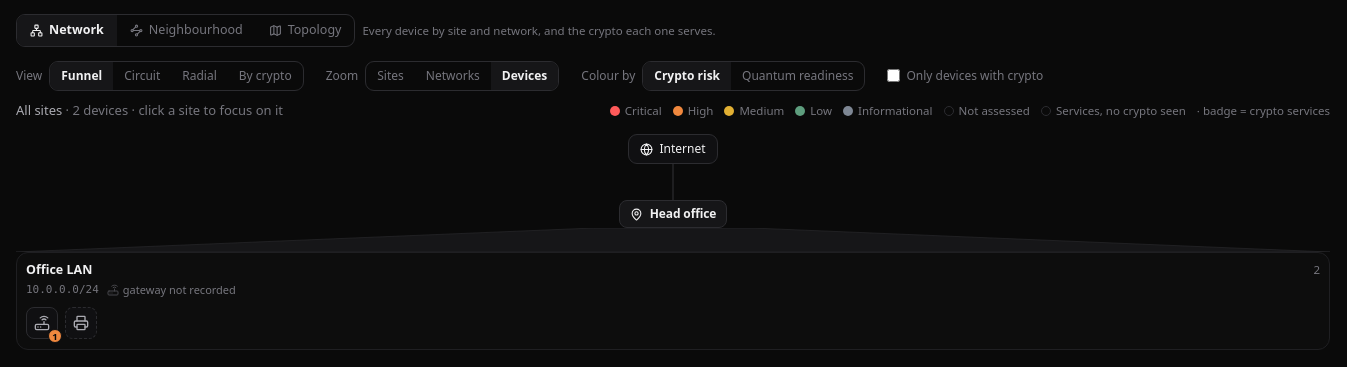
Test case: groups devices by shared crypto, weakest first, in the By-crypto view
What coordinates should you click on to do the following:
click the radio button labelled "By crypto"
I would click on:
 (265, 76)
Its box is [228, 62, 303, 90].
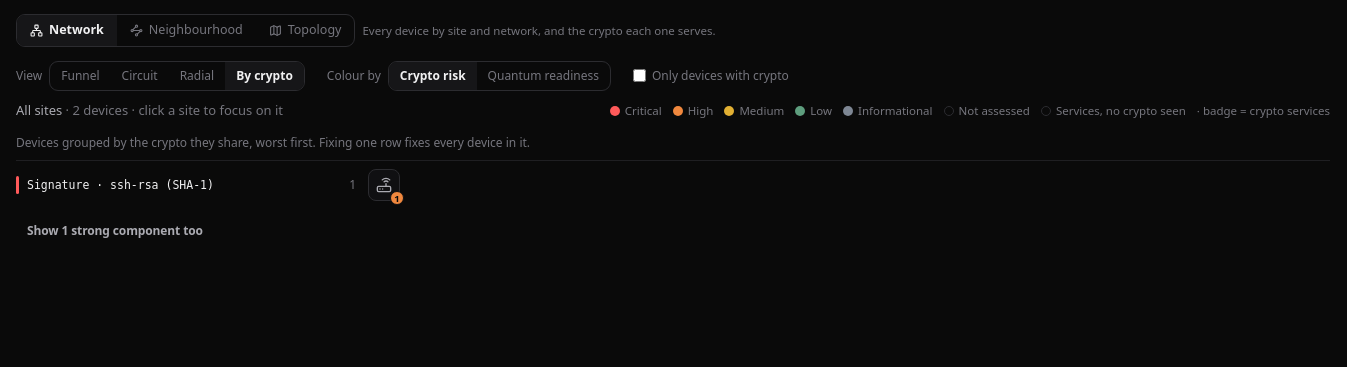
Expected: the element with test id "network-map-trait" shows "ssh-rsa (SHA-1)", [27, 178, 214, 192]
